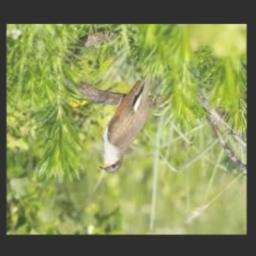Cuckoo: (98, 72, 154, 174)
